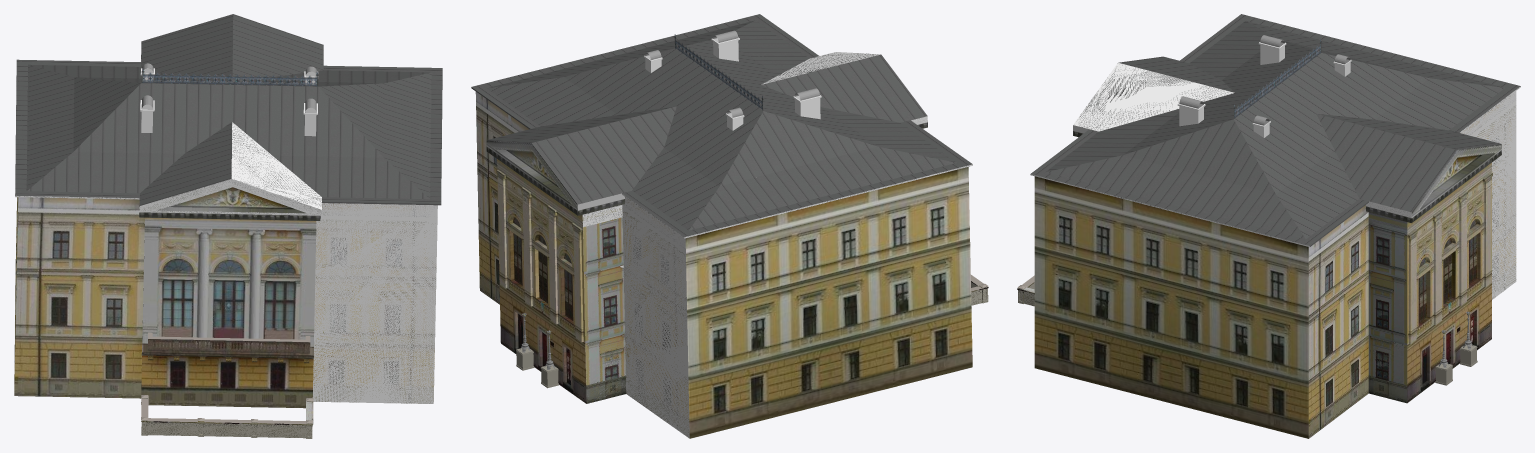
Rendered from radnica.glb.
3 views of the same model, side by side, from view 1: azimuth 30°, elevation 25°; view 2: azimuth 150°, elevation 25°; view 3: azimuth 270°, elevation 25° (orthographic). The views are drawn at different scales.
Visible parts, largest first — view 1: material_12, ľavá-a-pravá-predná-strana-, material, priečelie-spredu, P1010132a, Color_D15, trojuholník-1, material_2_3, Color_C20, podhľad-trámkový-zboku, P1010132d, trojuholník-1_1 (+1 smaller); view 2: material_12, bočná-stena2, material, priečelie-zozadu1, ľavá-a-pravá-predná-strana-, bok-sever-2, trojuholník-1_0, trojuholník-1, material_2_3, podhľad-trámkový-zboku-zoza, bok_sever_0, material_9 (+1 smaller); view 3: material_12, bočná-stena2, priečelie-zozadu1, ľavá-a-pravá-predná-strana-, material, bok-sever-4, bok-sever-1, trojuholník-1_0, trojuholník-1, material_2_3, podhľad-trámkový-zboku-zoza, bok_sever_0 (+3 smaller).
Part boxes in pixels (box(x1,y1,x2,y2)): material_12: box(15, 14, 442, 206); ľavá-a-pravá-predná-strana-: box(14, 197, 436, 403); material: box(14, 68, 437, 403); priečelie-spredu: box(141, 217, 316, 408); P1010132a: box(141, 339, 313, 358); Color_D15: box(141, 398, 312, 438); trojuholník-1: box(157, 187, 306, 213); material_2_3: box(141, 68, 318, 86); Color_C20: box(141, 332, 313, 425); podhľad-trámkový-zboku: box(139, 205, 320, 220); P1010132d: box(141, 401, 313, 437); trojuholník-1_1: box(139, 179, 321, 215); material_12: box(471, 14, 972, 237); bočná-stena2: box(685, 167, 972, 438); material: box(582, 37, 972, 438); priečelie-zozadu1: box(496, 159, 586, 403); ľavá-a-pravá-predná-strana-: box(475, 91, 688, 435); bok-sever-2: box(583, 217, 625, 385); trojuholník-1_0: box(486, 140, 577, 210); trojuholník-1: box(495, 149, 569, 202); material_2_3: box(674, 34, 763, 110); podhľad-trámkový-zboku-zoza: box(486, 146, 624, 215); bok_sever_0: box(586, 375, 626, 403); material_9: box(516, 348, 558, 388); material_12: box(1031, 14, 1520, 245); bočná-stena2: box(1034, 176, 1308, 438); priečelie-zozadu1: box(1407, 163, 1492, 402); ľavá-a-pravá-predná-strana-: box(1308, 92, 1516, 438); material: box(1030, 42, 1520, 299); bok-sever-4: box(1368, 270, 1407, 385); bok-sever-1: box(1368, 224, 1407, 279); trojuholník-1_0: box(1411, 144, 1501, 217); trojuholník-1: box(1420, 153, 1493, 208); material_2_3: box(1233, 39, 1321, 118); podhľad-trámkový-zboku-zoza: box(1366, 150, 1501, 223); bok_sever_0: box(1368, 376, 1407, 403).
Size of the model in its own units: 35.53 by 19.63 by 34.11.
Materials: 43 (28 with a texture image).
